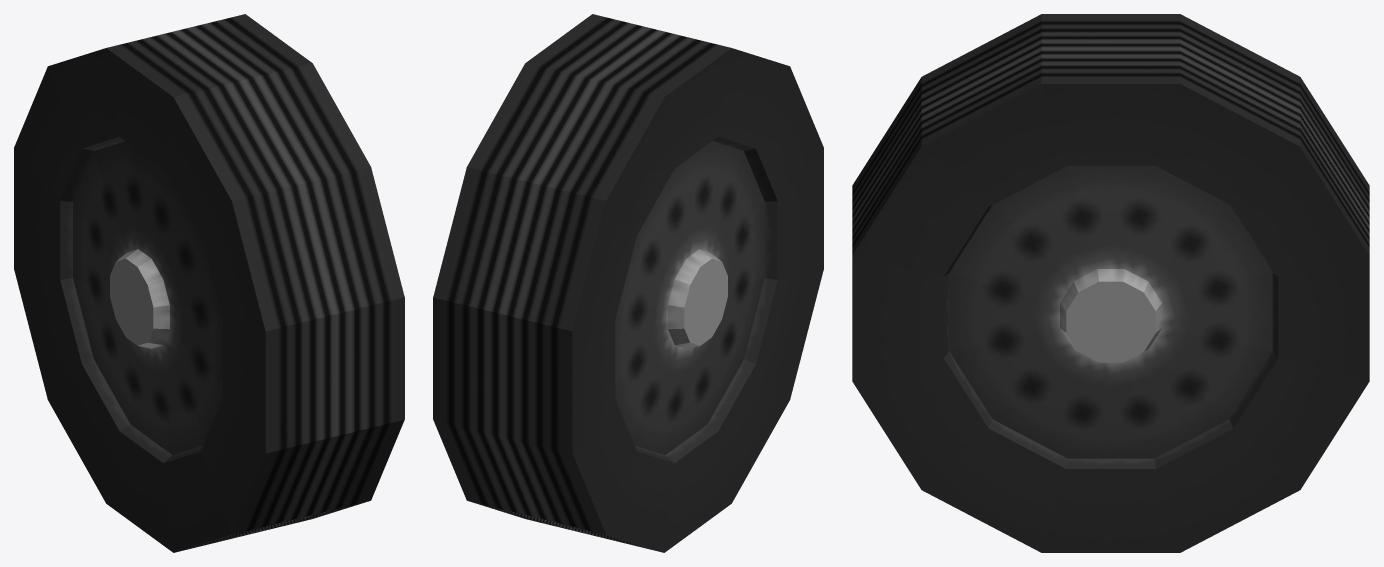
File: LeGranWheelC.fbx
The picture shows the model from 3 angles, left to right: view 1: azimuth 30°, elevation 25°; view 2: azimuth 150°, elevation 25°; view 3: azimuth 270°, elevation 25°; orthographic projection. The views are drawn at different scales.
Visible parts, largest first — view 1: WheelLeGranB; view 2: WheelLeGranB; view 3: WheelLeGranB.
Boxes of the visible parts, box(x1,y1,x2,y2) form: WheelLeGranB: box(14, 14, 404, 552); WheelLeGranB: box(433, 14, 823, 552); WheelLeGranB: box(852, 14, 1369, 552).
Bounding box in the file's own units: 0.3864 × 1.08 × 1.08.
